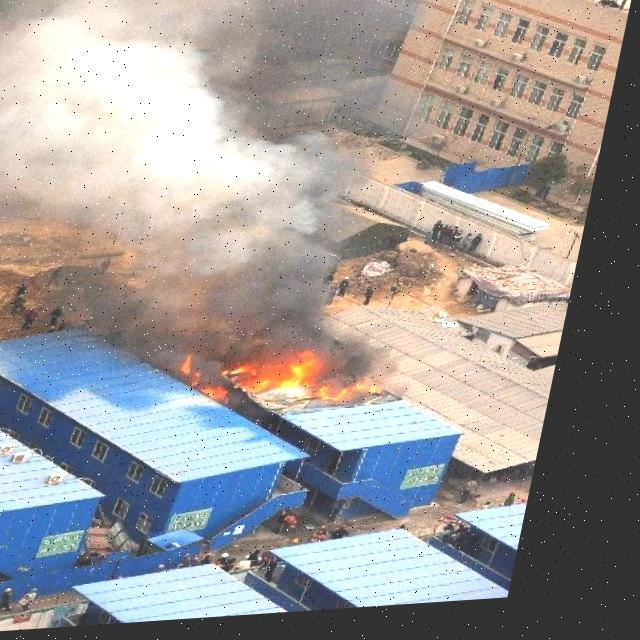Fire: (183, 328, 418, 436)
